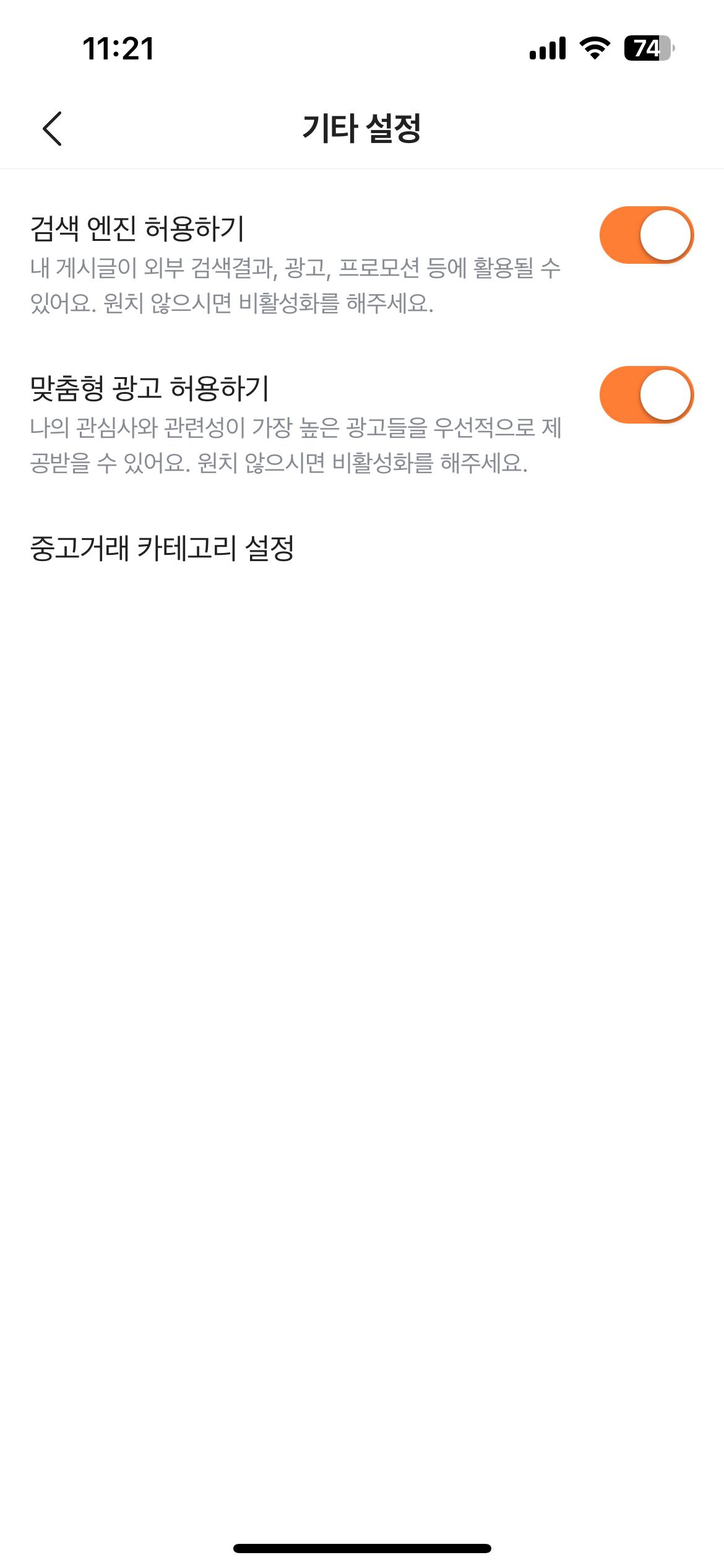checkbox: (27, 200, 695, 285), (27, 370, 697, 438)
